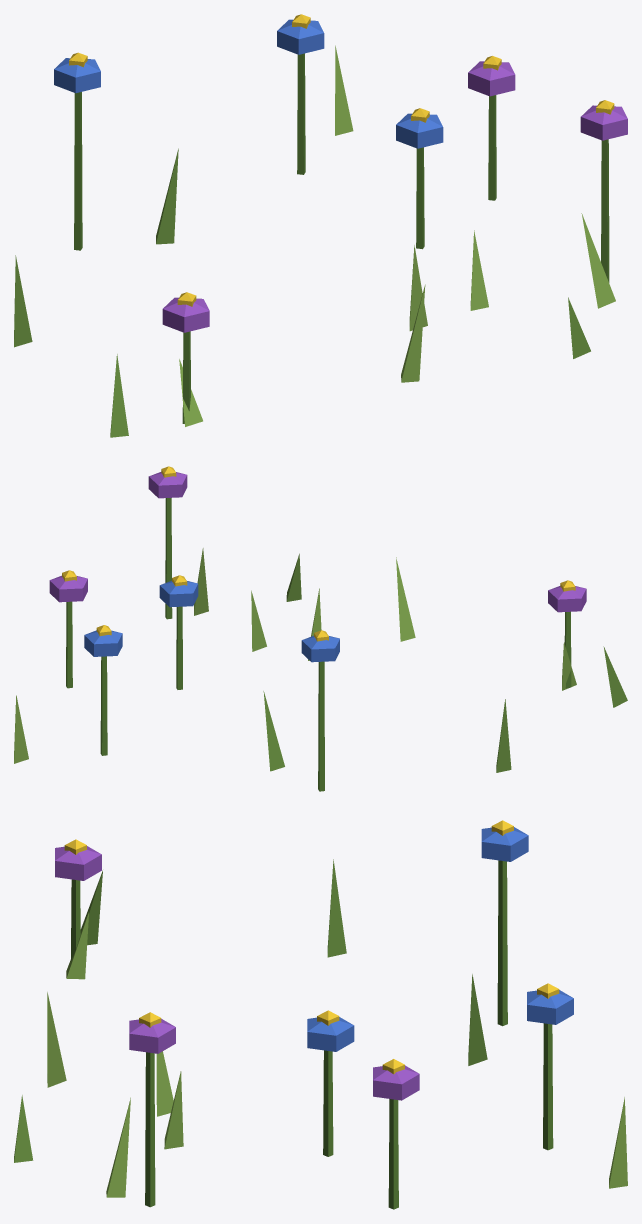
The model's file is cover_flowers_blue.glb.
The picture shows the model from 3 angles, top to bottom: view 1: azimuth 30°, elevation 25°; view 2: azimuth 150°, elevation 25°; view 3: azimuth 270°, elevation 25°; orthographic projection. The views are drawn at different scales.
Parts seen in each view (by area): view 1: scatter_flowers_blue; view 2: scatter_flowers_blue; view 3: scatter_flowers_blue.
Boxes of the visible parts, box(x1,y1,x2,y2) form: scatter_flowers_blue: box(14, 14, 627, 437); scatter_flowers_blue: box(14, 466, 627, 791); scatter_flowers_blue: box(14, 820, 627, 1209).
Size of the model in its own units: 1.55 by 0.533 by 1.44.
